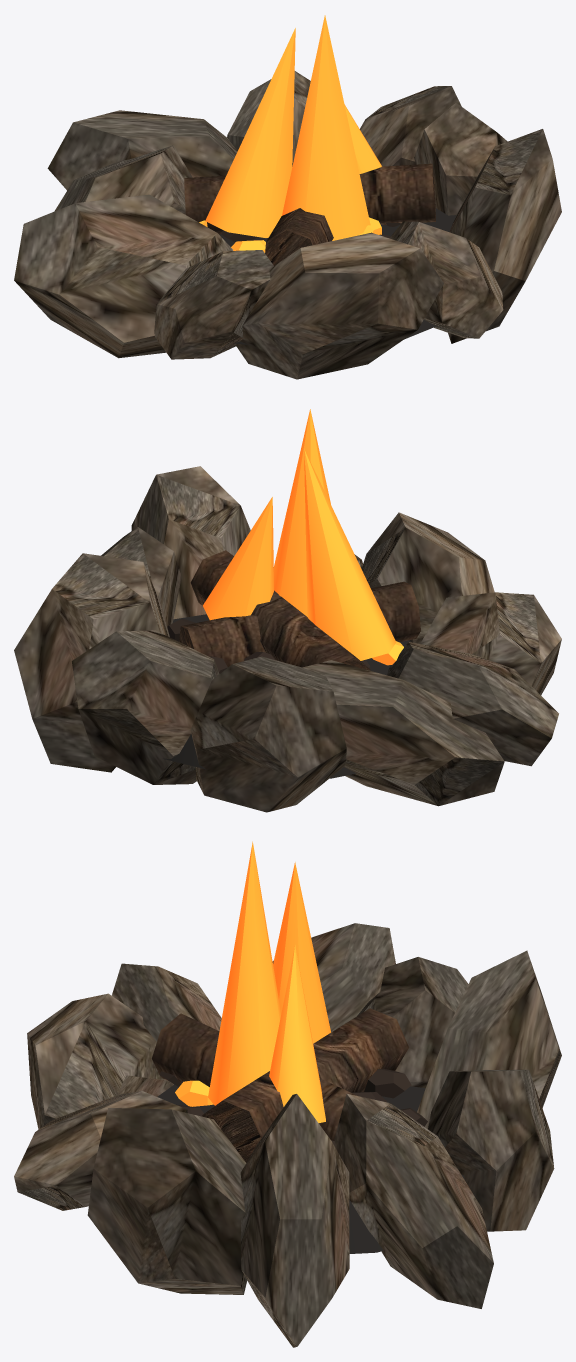
The model's file is fire.glb.
3 renders of one model, top to bottom at view 1: azimuth 30°, elevation 25°; view 2: azimuth 150°, elevation 25°; view 3: azimuth 270°, elevation 25°, orthographic. The views are drawn at different scales.
Parts seen in each view (by area): view 1: part_1, part_3, part_2, part_0; view 2: part_1, part_3, part_2, part_0, part_4; view 3: part_1, part_3, part_2, part_0, part_4.
Part boxes in pixels (box(x1,y1,x2,y2)): part_1: box(14, 71, 561, 379); part_3: box(199, 15, 381, 252); part_2: box(184, 163, 435, 265); part_0: box(219, 208, 456, 344); part_1: box(14, 466, 561, 812); part_3: box(203, 409, 403, 665); part_2: box(179, 550, 420, 670); part_0: box(163, 614, 411, 778); part_4: box(167, 619, 370, 673); part_1: box(14, 923, 561, 1347); part_3: box(175, 841, 330, 1122); part_2: box(152, 1008, 408, 1162); part_0: box(157, 1084, 465, 1253); part_4: box(159, 1069, 427, 1149).
Size of the model in its own units: 0.7557 by 0.4747 by 0.595.
Materials: 5 (2 with a texture image).
